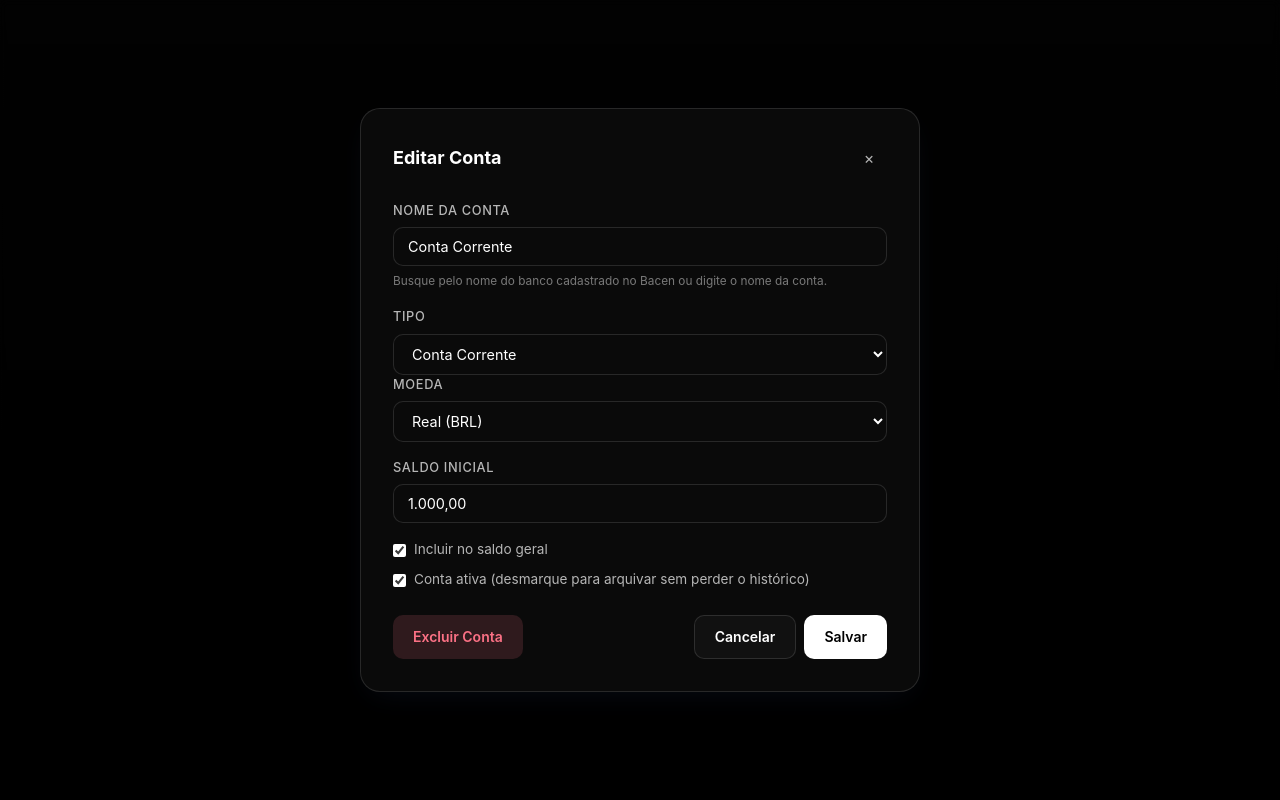
Test: AccountModal › shows a delete button with a two-step confirmation when editing
The image size is (1280, 800).
Click the button "Excluir Conta".
click(458, 637)  # box [393,615,523,659]
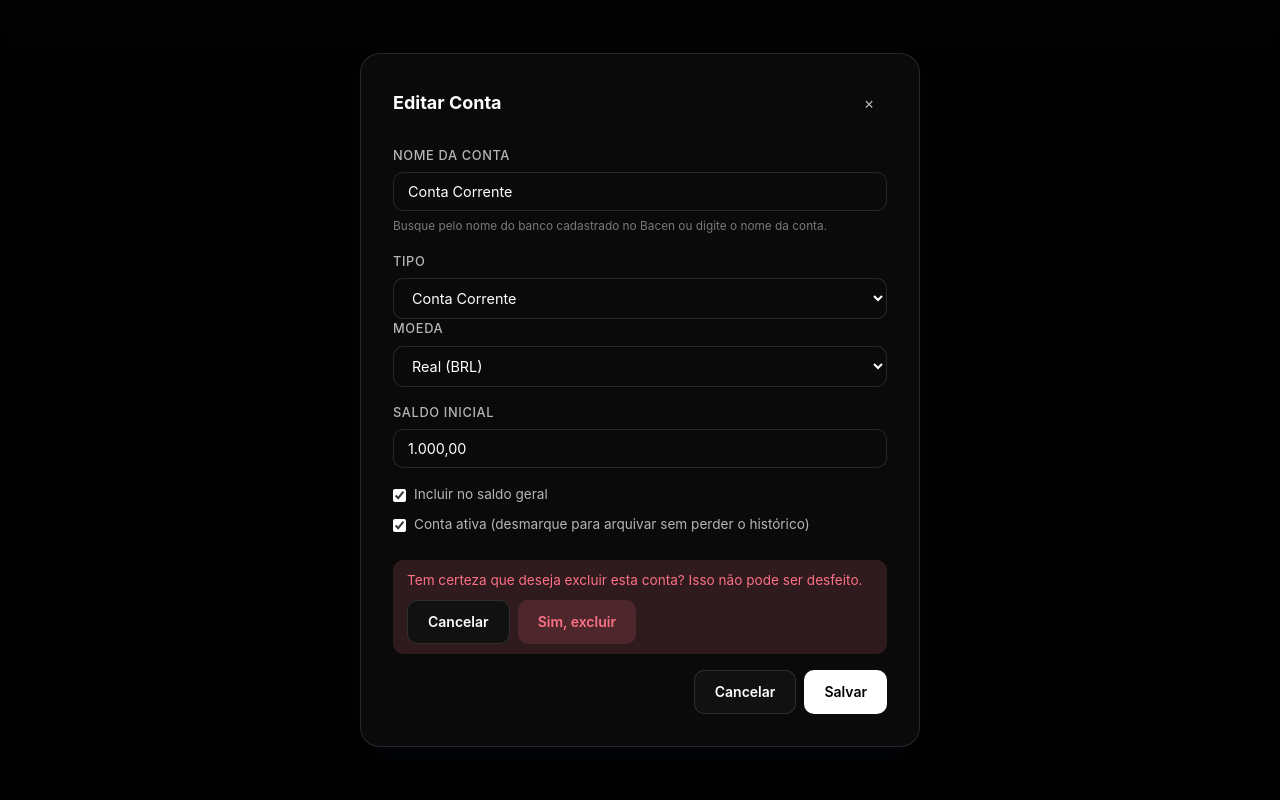
Check: the text "Tem certeza que deseja excluir" is shown, box [407,572,862,588]
Click the 1st button "Cancelar".
click(458, 622)  # box [407,600,510,644]
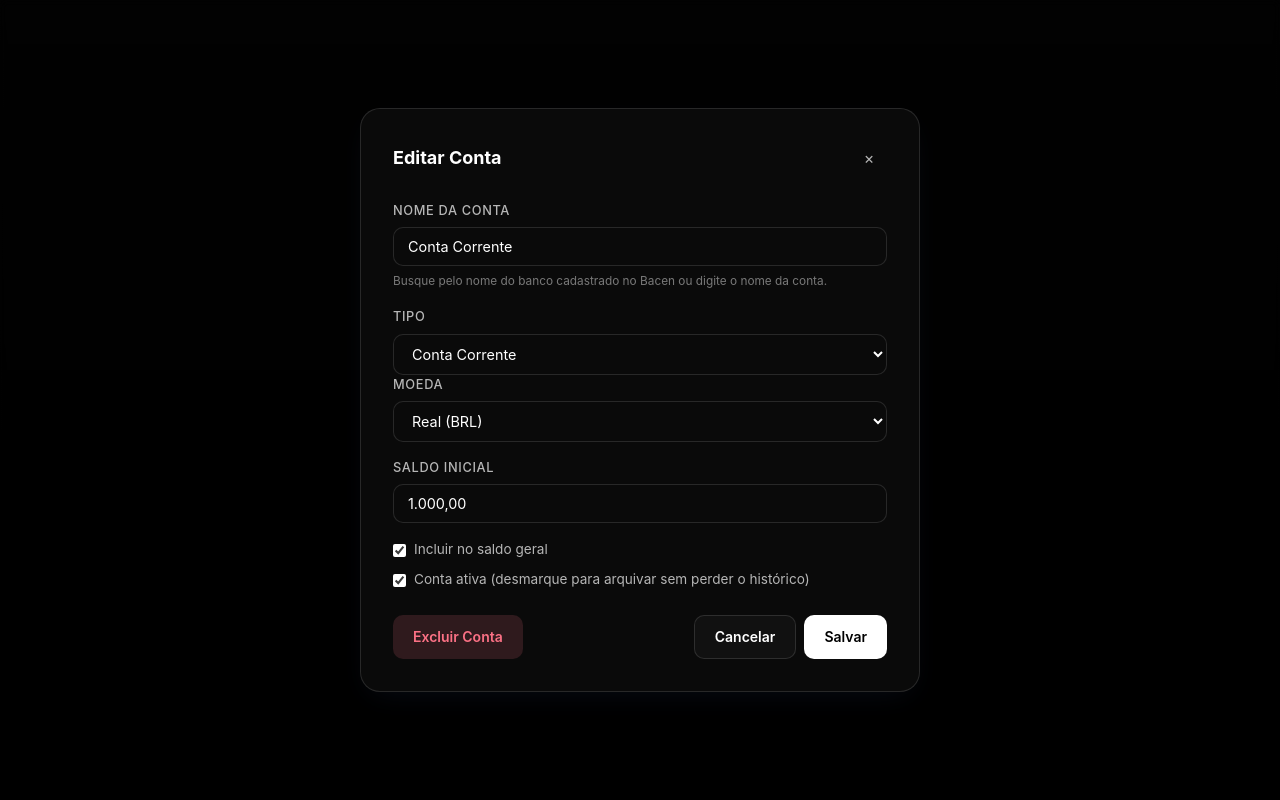
Check: the text "Tem certeza que deseja excluir" is gone
